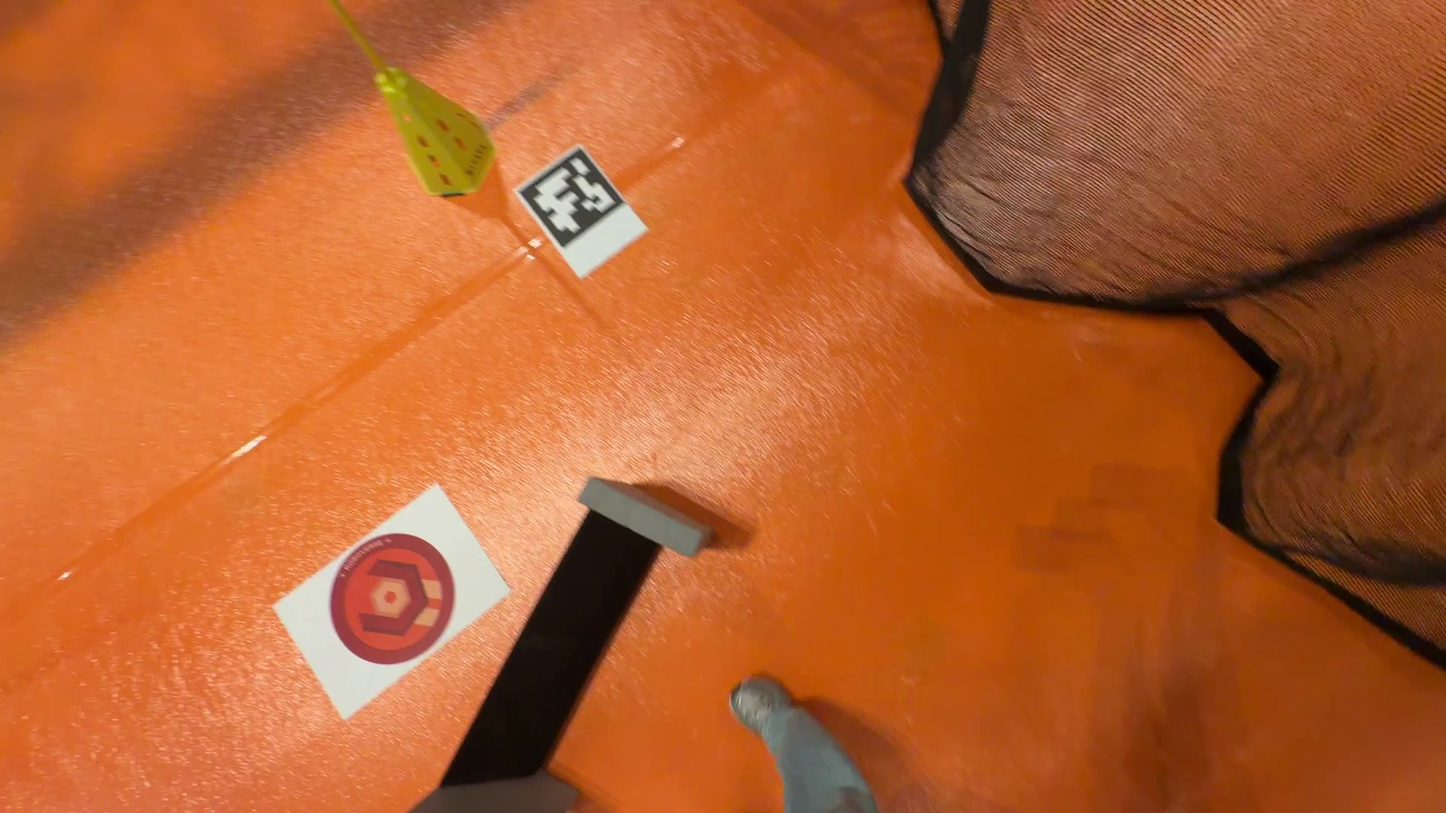landing_pad: (326, 530, 460, 665)
